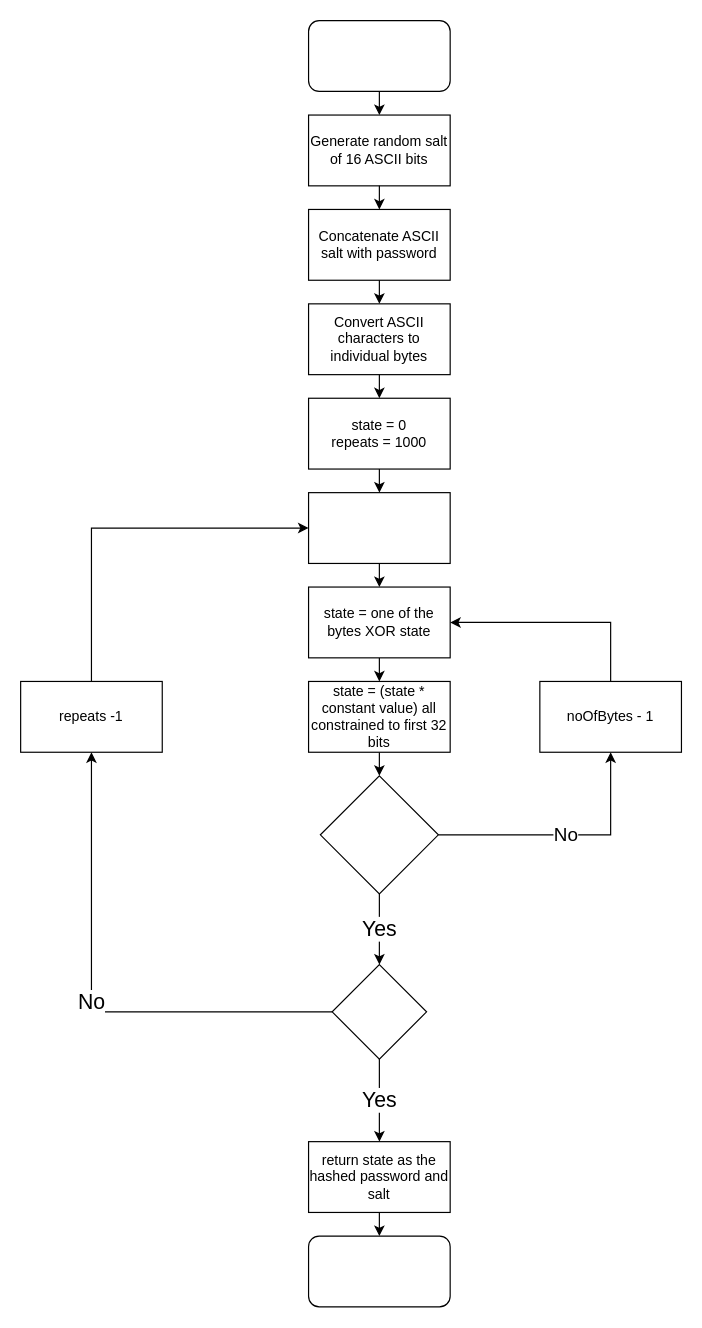
This 702x1328 diagram has some shape labels left out. Each missing label, with the box of its shape:
End: (307, 1235, 450, 1307)
noOfBytes = 1?: (319, 775, 438, 894)
noOfBytes = number of bytes to process: (307, 491, 450, 563)
repeats = 0?: (331, 963, 427, 1059)
Start: (307, 19, 450, 91)
